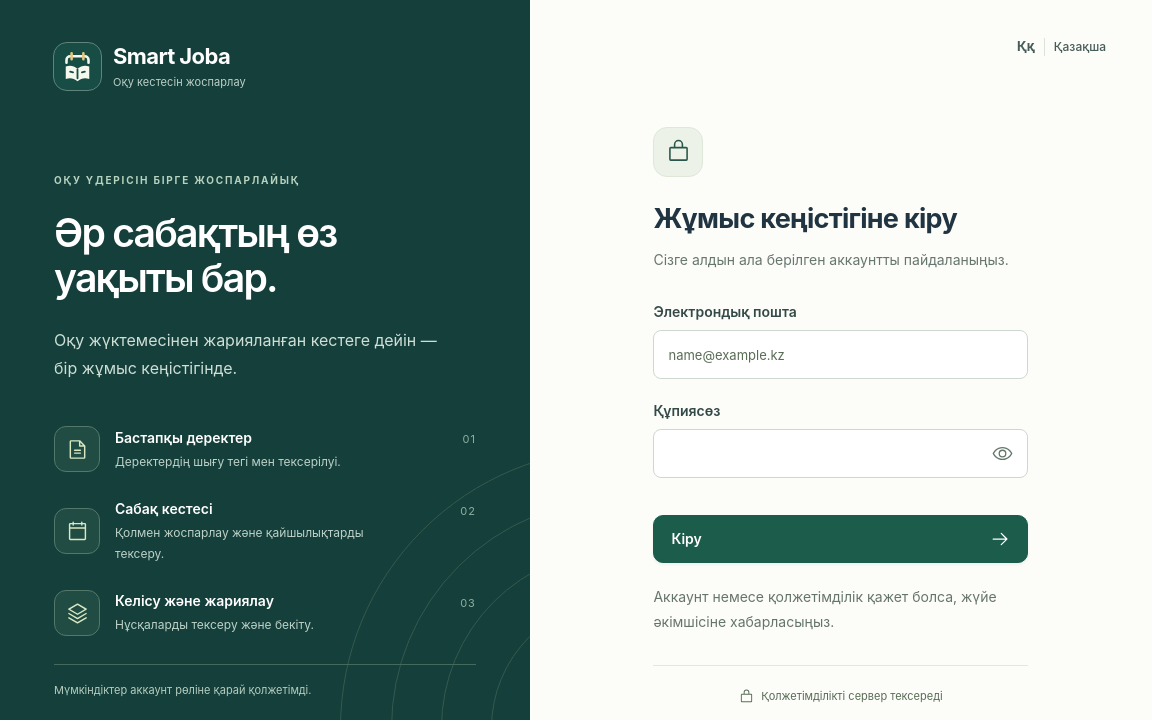
Test case: AUTH-003: prepared account sign-in › logs in using the server session and displays the real scope and role
Step 1. Type "scheduler@example.test" into the field labelled "Электрондық пошта" → (841, 354), box top-left (654, 330), bottom-right (1028, 379)
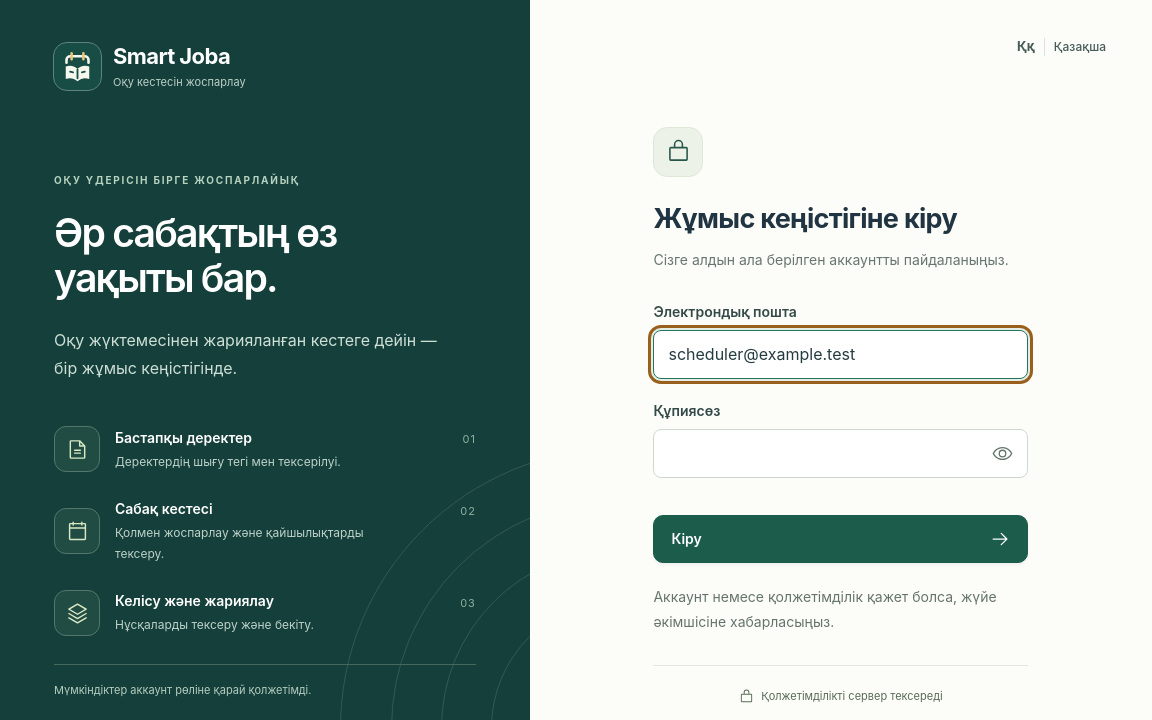
Step 2. Type "private-test" into the password field labelled "Құпиясөз" → (841, 453), box top-left (654, 429), bottom-right (1028, 478)
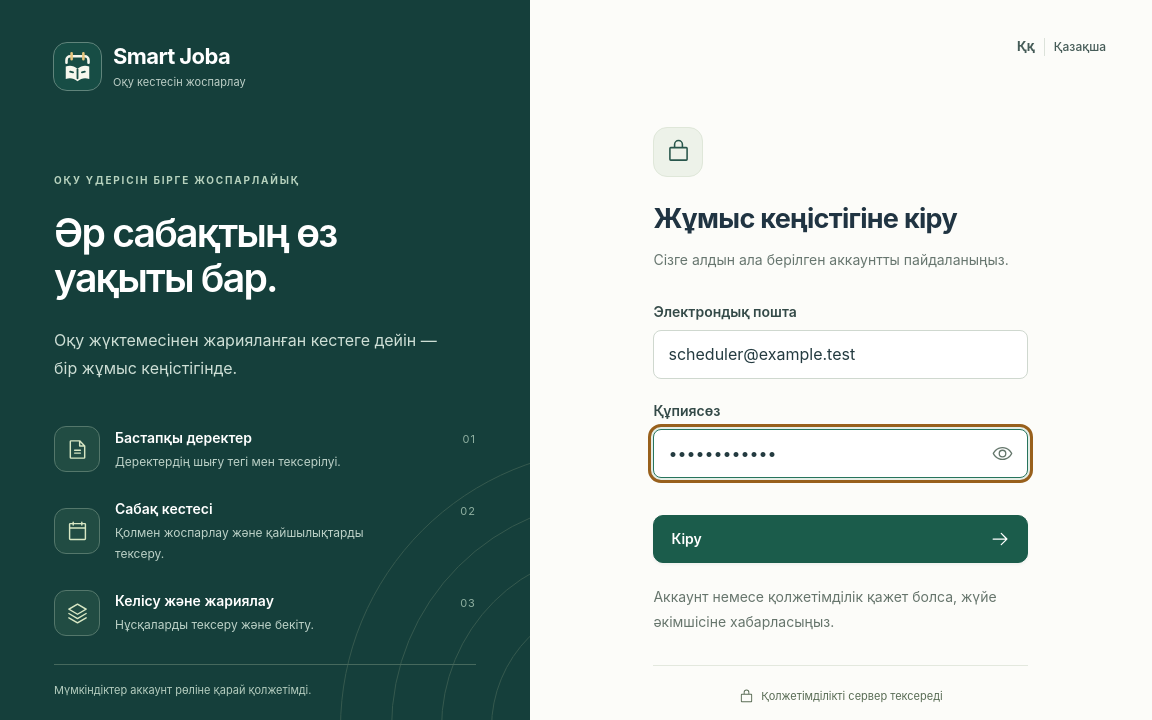
Step 3. Click the button "Кіру" → (687, 538), box top-left (654, 515), bottom-right (1028, 563)
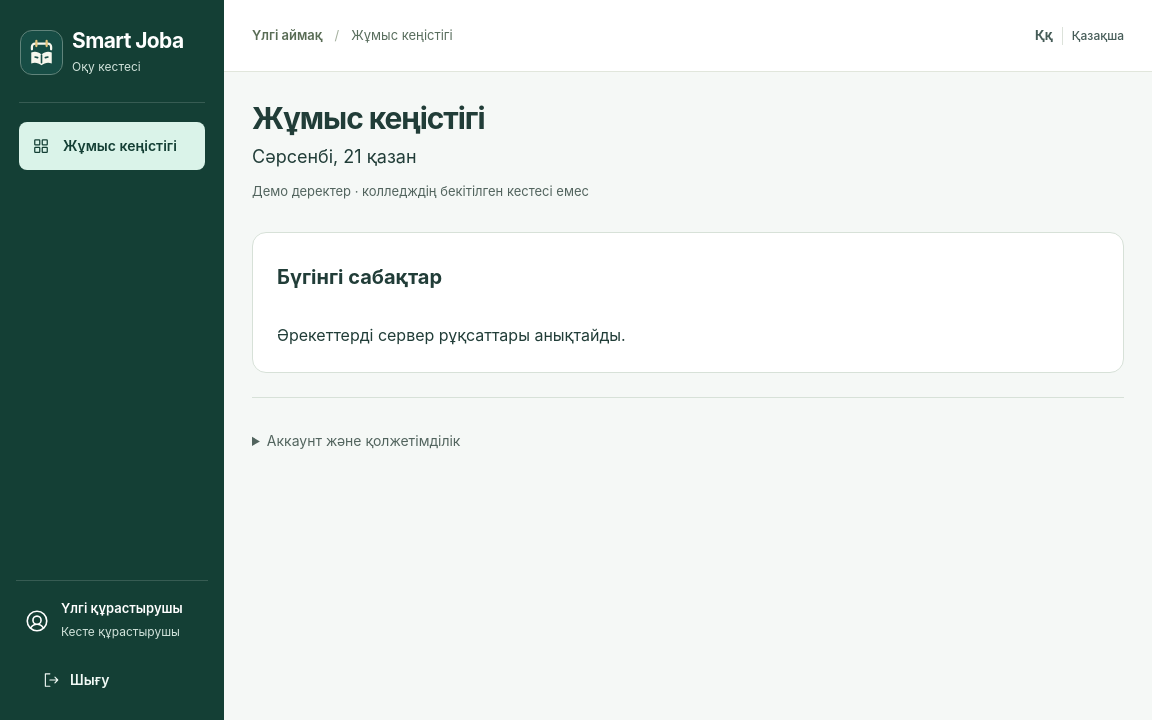
Check: the text "Үлгі құрастырушы" is shown, box top-left (61, 599), bottom-right (183, 619)
Check: the text "Кесте құрастырушы" is shown, box top-left (61, 622), bottom-right (183, 642)
Check: the text "Үлгі аймақ" is shown, box top-left (252, 26), bottom-right (323, 45)
